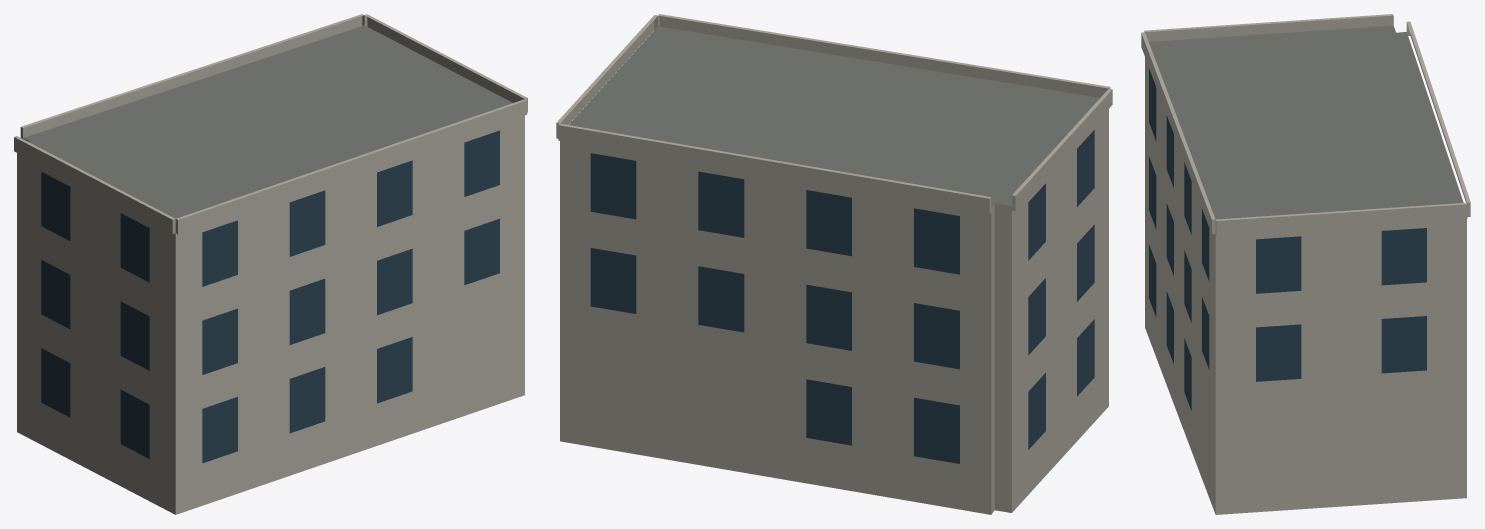
3 renders of one model, left to right at view 1: azimuth 30°, elevation 25°; view 2: azimuth 150°, elevation 25°; view 3: azimuth 270°, elevation 25°, orthographic. The views are drawn at different scales.
Visible parts, largest first — view 1: Footprint 0 / surface 2, Footprint 0 / surface 1, Inset glazing, Facade bay volumes; view 2: Footprint 0 / surface 2, Footprint 0 / surface 1, Inset glazing, Facade bay volumes; view 3: Footprint 0 / surface 2, Footprint 0 / surface 1, Inset glazing, Facade bay volumes.
Boxes of the visible parts, x1,y1,x2,y2 form: Footprint 0 / surface 2: (17, 115, 524, 514); Footprint 0 / surface 1: (23, 25, 512, 218); Inset glazing: (41, 130, 499, 463); Facade bay volumes: (14, 14, 527, 234); Footprint 0 / surface 2: (560, 109, 1108, 514); Footprint 0 / surface 1: (569, 26, 1099, 207); Inset glazing: (590, 130, 1094, 463); Facade bay volumes: (556, 14, 1112, 214); Footprint 0 / surface 2: (1145, 57, 1466, 514); Footprint 0 / surface 1: (1149, 25, 1463, 219); Inset glazing: (1149, 68, 1426, 410); Facade bay volumes: (1141, 14, 1470, 235).
Bounding box in the file's own units: 15.49 × 10.3 × 10.42.
